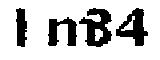3: (93, 8, 116, 51)
4: (115, 3, 150, 52)
l: (10, 4, 35, 51)
m: (43, 18, 96, 52)
